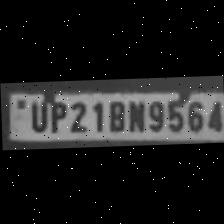1: (86, 96, 104, 132)
2: (63, 98, 87, 134)
4: (202, 96, 222, 132)
5: (163, 95, 183, 131)
6: (183, 96, 205, 132)
9: (144, 96, 164, 130)
B: (102, 96, 124, 132)
N: (124, 95, 146, 131)
P: (45, 97, 65, 131)
U: (24, 96, 46, 132)
